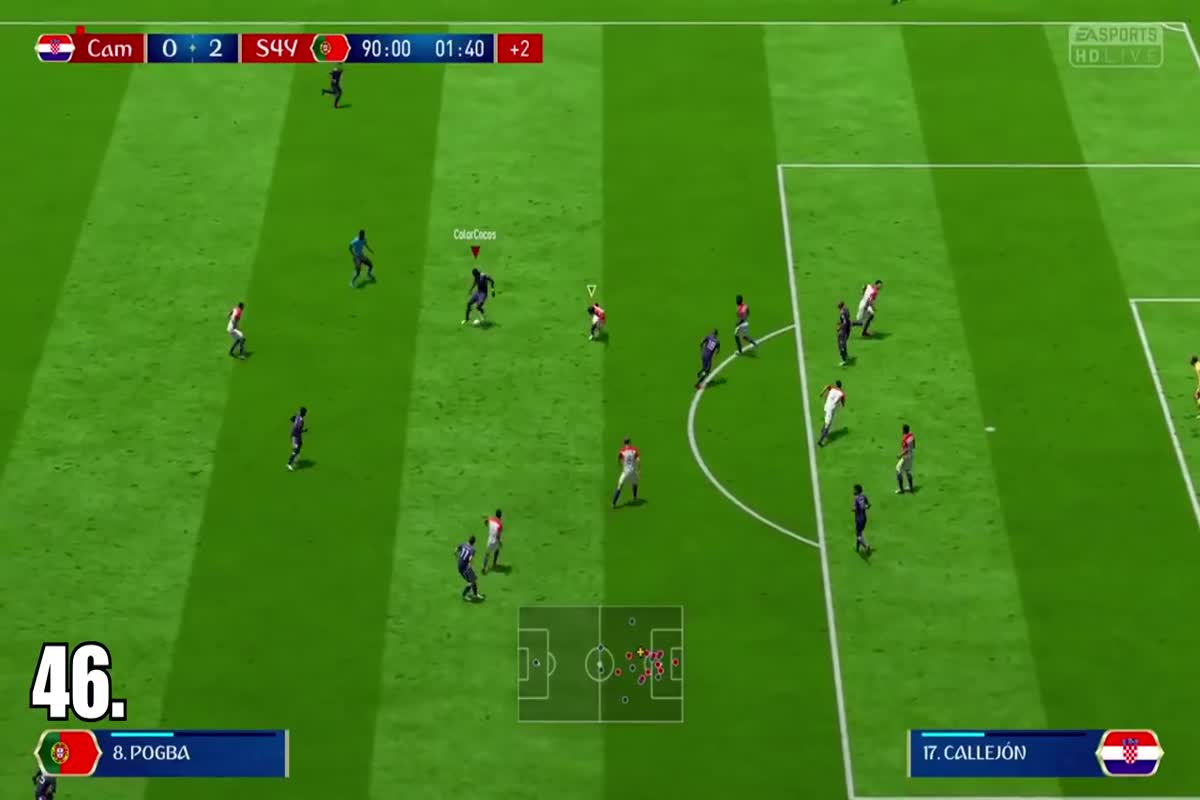ball: (471, 316, 487, 332)
